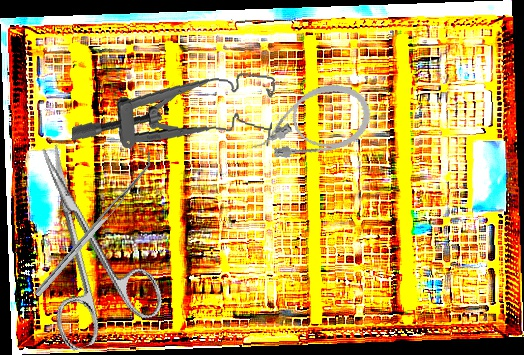Cannula: (241, 75, 379, 170)
Iris Scissors: (1, 127, 170, 354)
Spatula Surgical: (28, 149, 160, 298)
Speculum: (70, 55, 278, 164)
